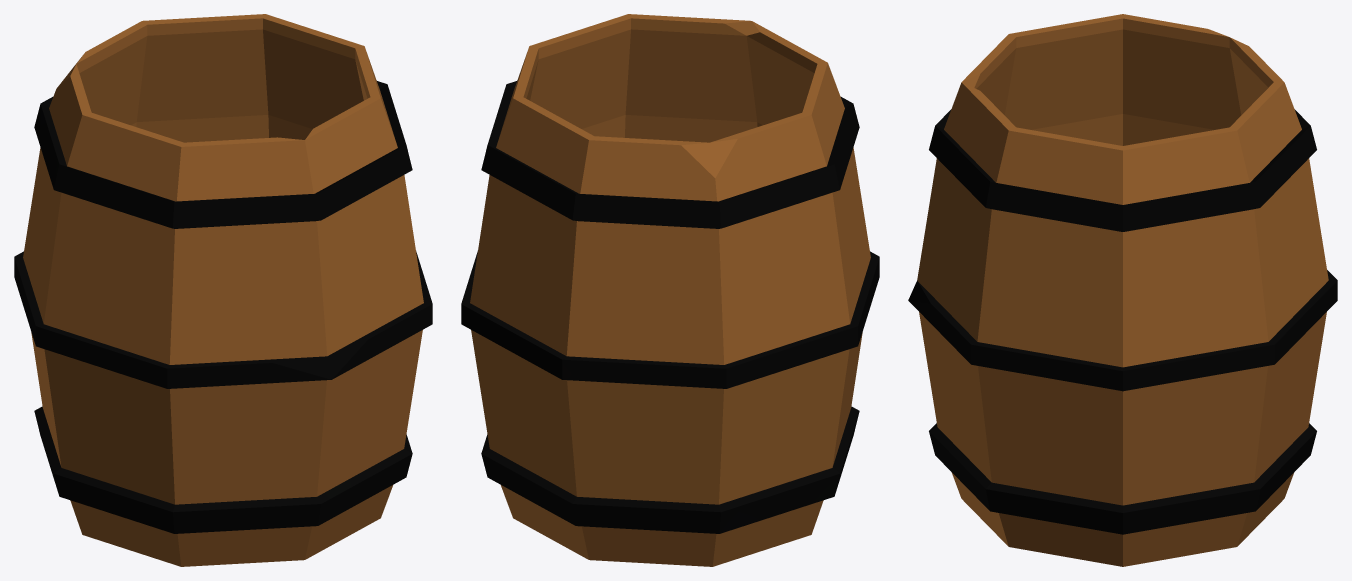
File: OpenBarrel_01.fbx
3 renders of one model, left to right at view 1: azimuth 30°, elevation 25°; view 2: azimuth 150°, elevation 25°; view 3: azimuth 270°, elevation 25°, orthographic.
Visible parts, largest first — view 1: OpenBarrel_01; view 2: OpenBarrel_01; view 3: OpenBarrel_01.
Boxes of the visible parts, x1,y1,x2,y2 form: OpenBarrel_01: (14,14,432,566); OpenBarrel_01: (461,14,879,566); OpenBarrel_01: (908,14,1337,566).
Size of the model in its own units: 47.01 by 50.28 by 47.01.
